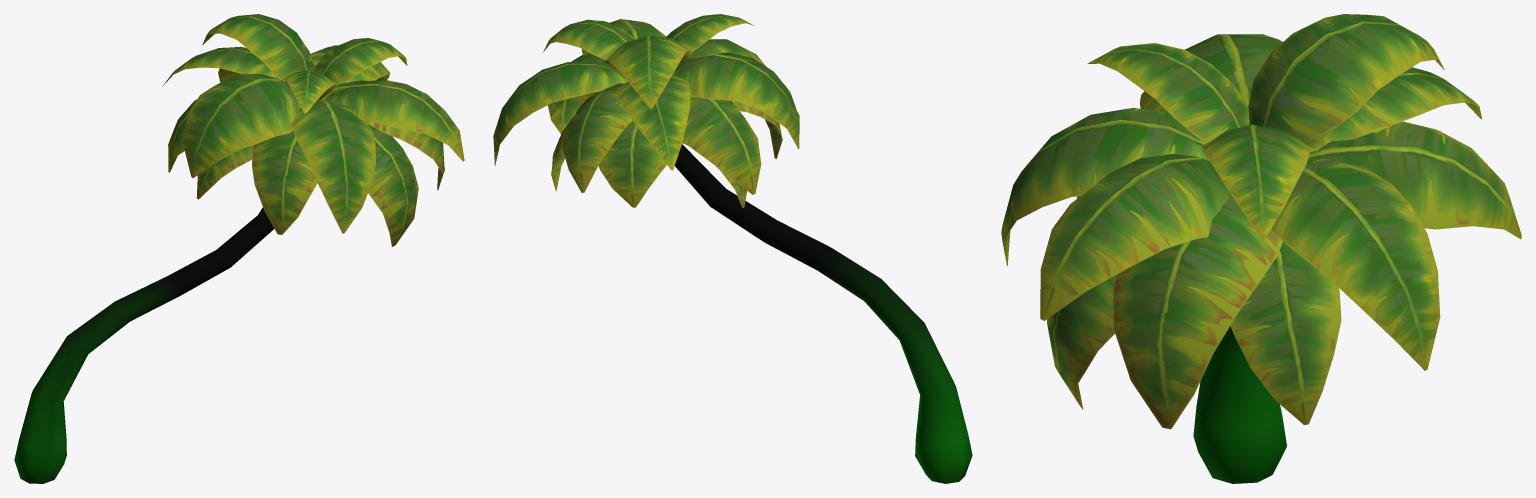
The model's file is P_PalmTree08.obj.
3 renders of one model, left to right at view 1: azimuth 30°, elevation 25°; view 2: azimuth 150°, elevation 25°; view 3: azimuth 270°, elevation 25°, orthographic. The views are drawn at different scales.
Size of the model in its own units: 11.06 by 9.71 by 6.9.
